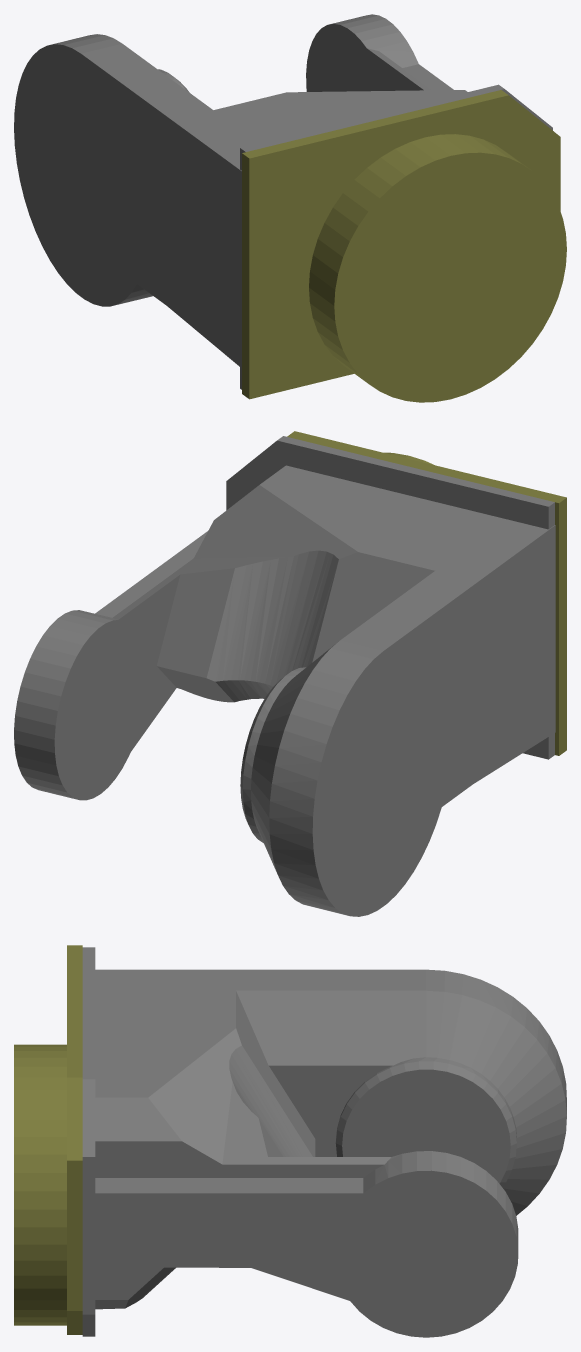
Rendered from RLEG_LINK0_mesh.dae.
3 views of the same model, one above another, from view 1: azimuth 30°, elevation 25°; view 2: azimuth 150°, elevation 25°; view 3: azimuth 270°, elevation 25° (orthographic). The views are drawn at different scales.
Parts seen in each view (by area): view 1: RLEG_LINK0 (×2); view 2: RLEG_LINK0 (×2); view 3: RLEG_LINK0 (×2).
Boxes of the visible parts, box(x1,y1,x2,y2) form: RLEG_LINK0 (×2): box(14, 14, 566, 402); RLEG_LINK0 (×2): box(14, 431, 566, 916); RLEG_LINK0 (×2): box(14, 945, 566, 1337).
Size of the model in its own units: 0.1203 by 0.098 by 0.177.
